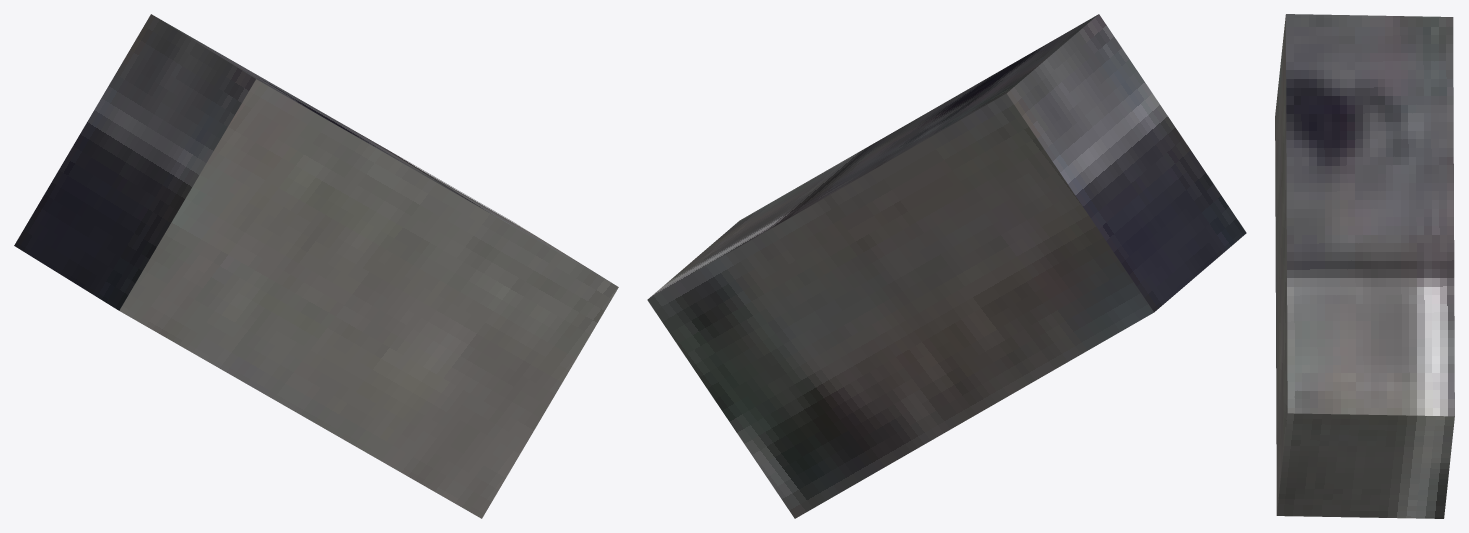
The picture shows the model from 3 angles, left to right: view 1: azimuth 30°, elevation 25°; view 2: azimuth 150°, elevation 25°; view 3: azimuth 270°, elevation 25°; orthographic projection. The views are drawn at different scales.
Parts seen in each view (by area): view 1: BAG_0599100010061948; view 2: BAG_0599100010061948; view 3: BAG_0599100010061948.
Part boxes in pixels (x1,y1,x2,y2): BAG_0599100010061948: (14,14,618,518); BAG_0599100010061948: (647,14,1246,518); BAG_0599100010061948: (1275,14,1454,518).
Bounding box in the file's own units: 5.47 × 5.05 × 1.98.
Materials: 2 (1 with a texture image).
